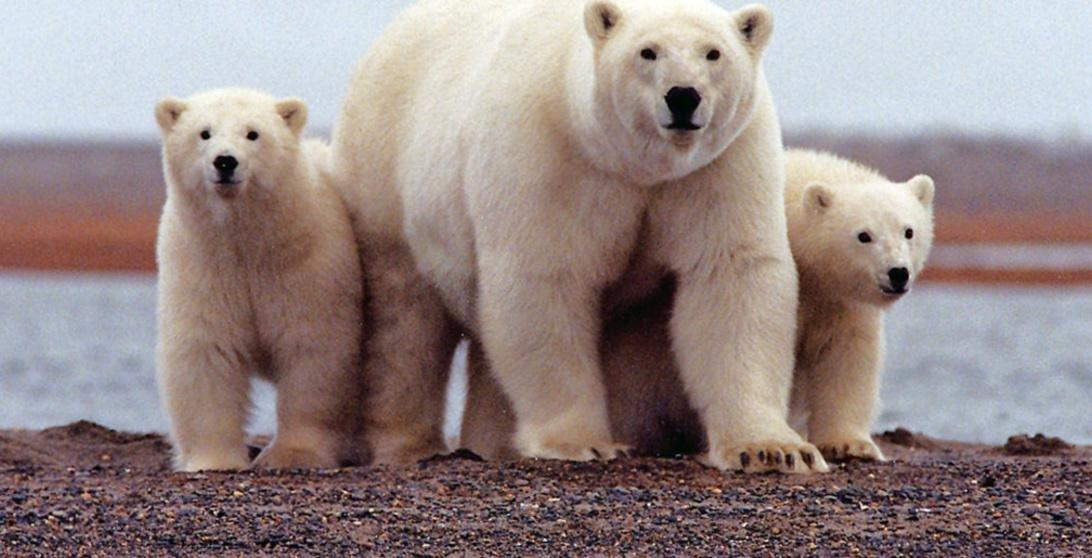bear: (335, 0, 828, 475), (464, 147, 941, 463), (154, 83, 365, 472)
